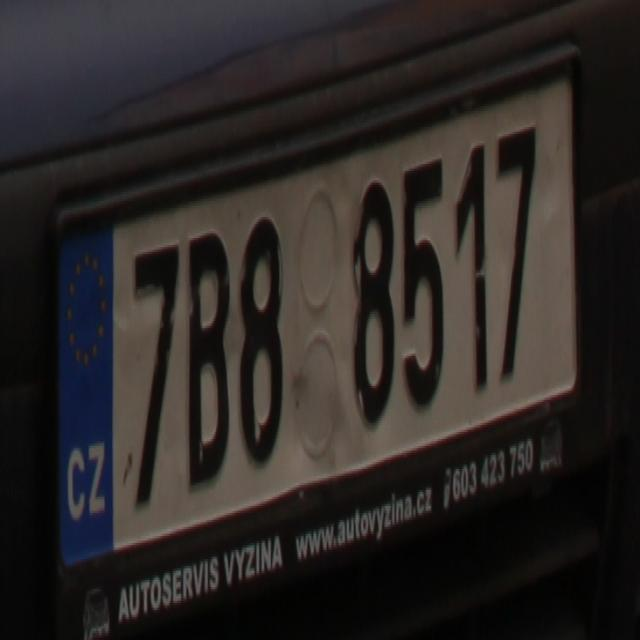1: (454, 143, 494, 400)
5: (400, 150, 446, 404)
7: (132, 245, 182, 518), (496, 127, 540, 384)
8: (238, 215, 284, 464), (355, 171, 397, 423)
B: (188, 229, 230, 483)
